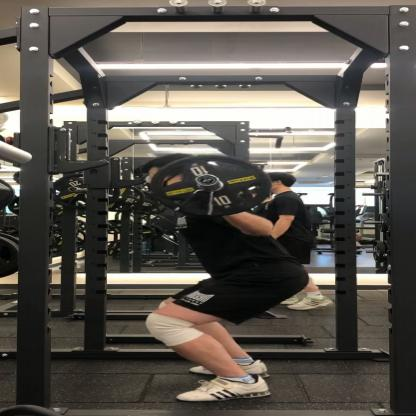Barbell: (136, 148, 288, 226)
